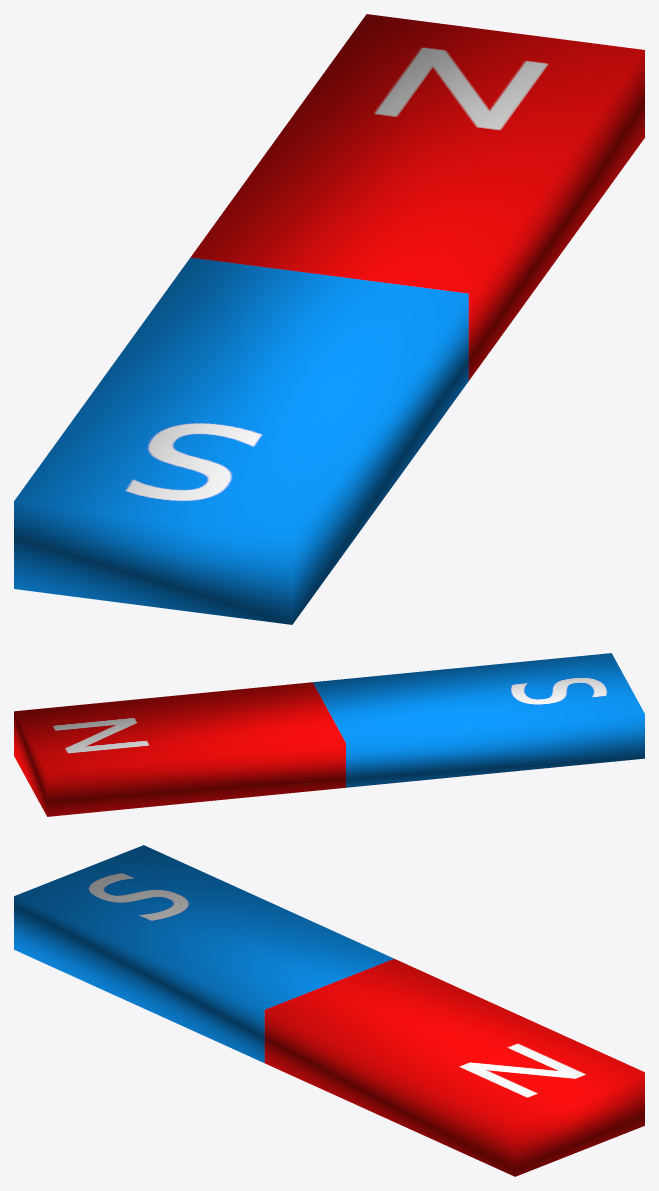
The model's file is magnete.fbx.
3 renders of one model, top to bottom at view 1: azimuth 30°, elevation 25°; view 2: azimuth 150°, elevation 25°; view 3: azimuth 270°, elevation 25°, orthographic. The views are drawn at different scales.
Parts seen in each view (by area): view 1: magnete; view 2: magnete; view 3: magnete.
Boxes of the visible parts, x1,y1,x2,y2 form: magnete: (14, 14, 644, 624); magnete: (14, 653, 644, 816); magnete: (14, 845, 644, 1176).
Bounding box in the file's own units: 9.03 × 0.8087 × 8.65.
